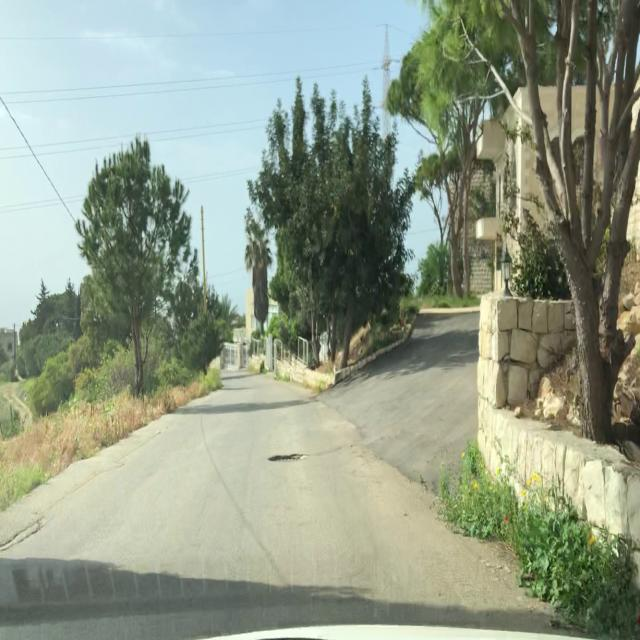Pothole: (268, 452, 308, 463)
